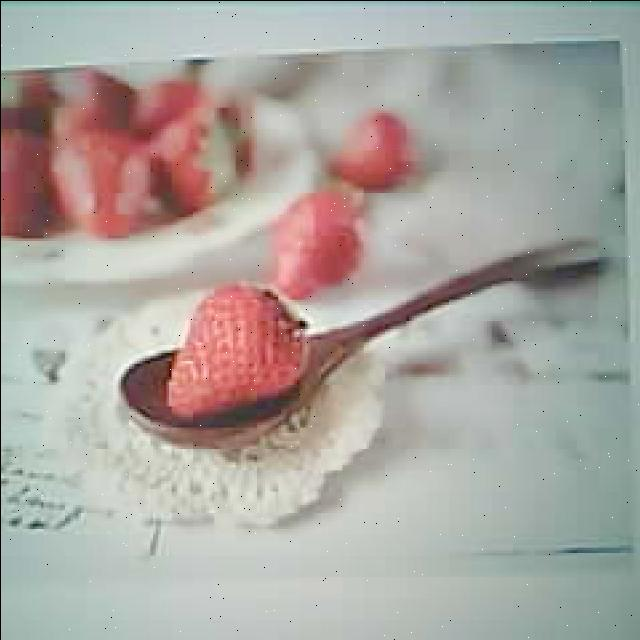strawberry: (165, 282, 306, 415)
